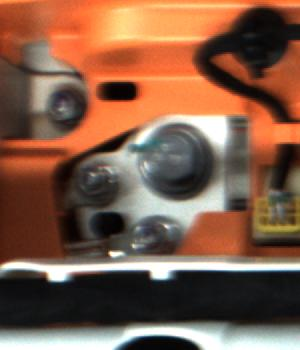nut_b: (129, 117, 222, 202)
screw_s: (39, 81, 84, 127), (75, 162, 122, 204), (134, 215, 182, 254)
